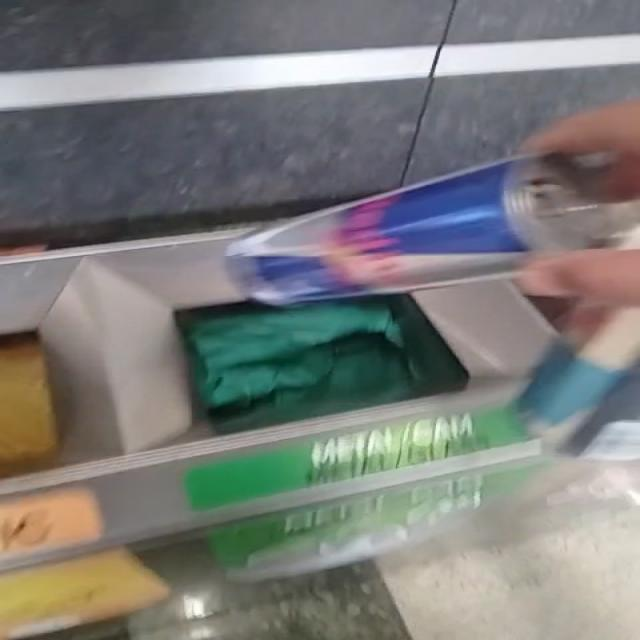metal: (227, 155, 640, 304)
